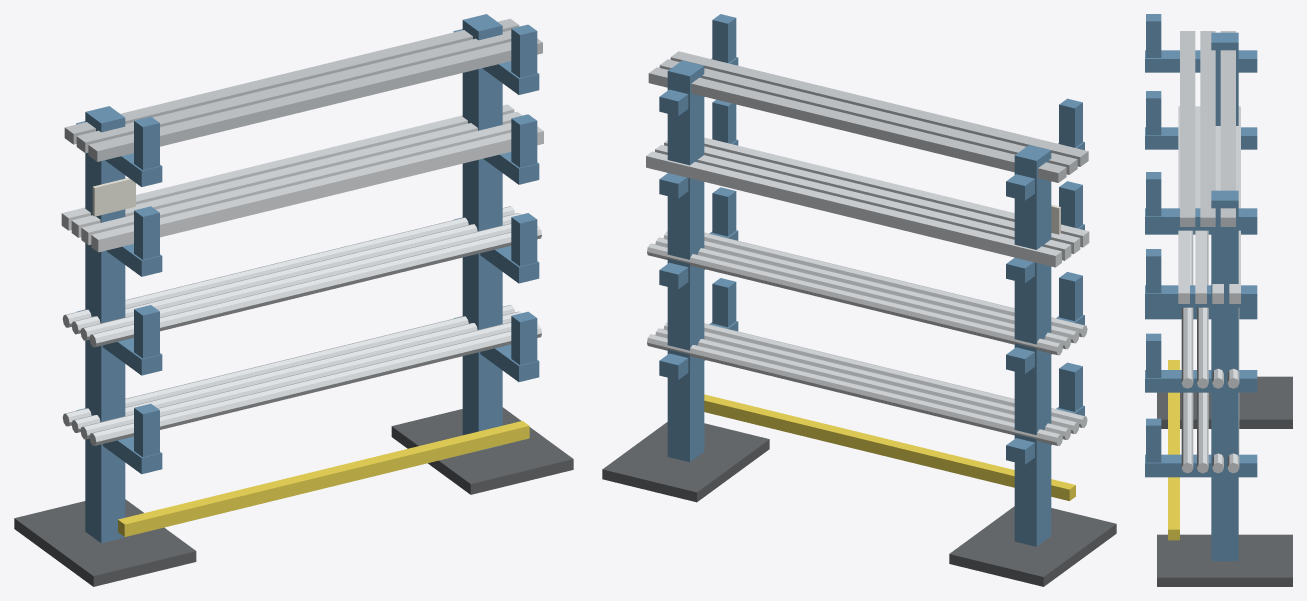
File: cantilever-bar-stock-rack.glb
The picture shows the model from 3 angles, left to right: view 1: azimuth 30°, elevation 25°; view 2: azimuth 150°, elevation 25°; view 3: azimuth 270°, elevation 25°; orthographic projection. The views are drawn at different scales.
Visible parts, largest first — view 1: machine-shop-and-factory-hall-bar-stock-rack; view 2: machine-shop-and-factory-hall-bar-stock-rack; view 3: machine-shop-and-factory-hall-bar-stock-rack.
Boxes of the visible parts, x1,y1,x2,y2 form: machine-shop-and-factory-hall-bar-stock-rack: (14,14,573,586); machine-shop-and-factory-hall-bar-stock-rack: (602,14,1116,586); machine-shop-and-factory-hall-bar-stock-rack: (1145,14,1292,586).
Size of the model in its own units: 2.8 by 2.53 by 0.87.
